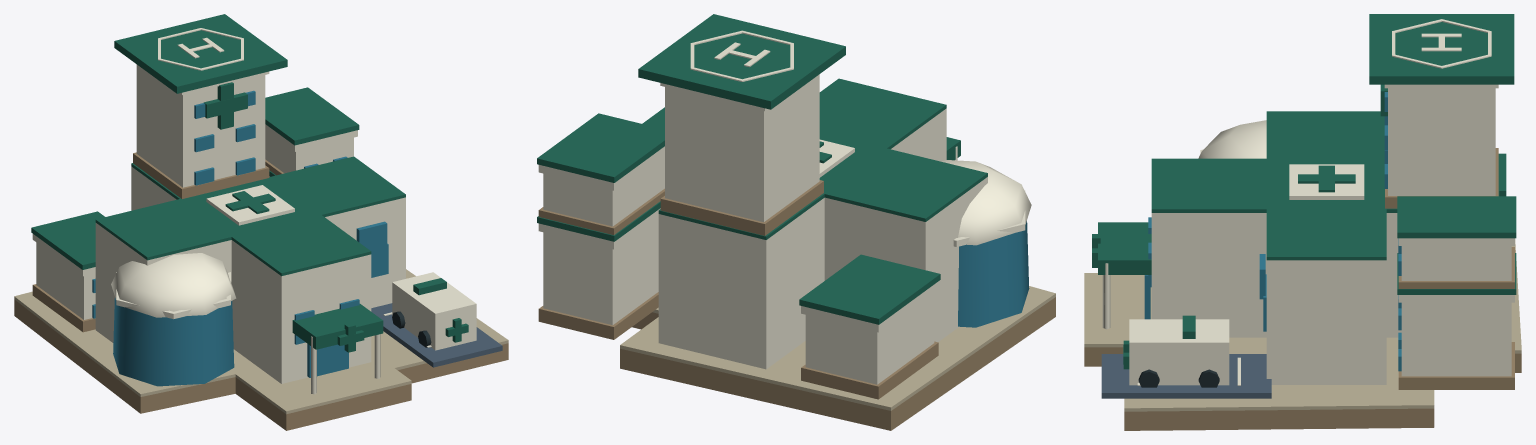
File: medical-center-lv5.glb
The picture shows the model from 3 angles, left to right: view 1: azimuth 30°, elevation 25°; view 2: azimuth 150°, elevation 25°; view 3: azimuth 270°, elevation 25°; orthographic projection. The views are drawn at different scales.
Parts seen in each view (by area): view 1: cross_clinic_white, cross_clinic_jade, medical_tower_white, foundation_paving, foundation_stoneDark, diagnostics_rotunda_glass, helipad_jade, diagnostics_dome_white, ambulance_white, inpatient_upper_floor_roof_jade, inpatient_wing_white, inpatient_upper_floor_white (+14 smaller); view 2: cross_clinic_white, medical_tower_white, cross_clinic_jade, helipad_jade, diagnostics_wing_white, foundation_stoneDark, foundation_paving, inpatient_wing_white, diagnostics_rotunda_glass, inpatient_wing_roof_jade, inpatient_upper_floor_roof_jade, inpatient_upper_floor_white (+8 smaller); view 3: cross_clinic_white, cross_clinic_jade, medical_tower_white, foundation_paving, helipad_jade, diagnostics_wing_white, foundation_stoneDark, ambulance_white, inpatient_upper_floor_roof_jade, inpatient_upper_floor_white, ambulance_lane_slate, entry_canopy_jade (+11 smaller).
Boxes of the visible parts, left/top/right/bottom form: cross_clinic_white: left=95, top=166, right=405, bottom=383; cross_clinic_jade: left=95, top=156, right=405, bottom=276; medical_tower_white: left=136, top=64, right=269, bottom=187; foundation_paving: left=14, top=269, right=508, bottom=414; foundation_stoneDark: left=14, top=299, right=508, bottom=430; diagnostics_rotunda_glass: left=113, top=297, right=234, bottom=386; helipad_jade: left=114, top=14, right=287, bottom=93; diagnostics_dome_white: left=111, top=253, right=236, bottom=319; ambulance_white: left=392, top=272, right=476, bottom=350; inpatient_upper_floor_roof_jade: left=265, top=87, right=359, bottom=145; inpatient_wing_white: left=32, top=234, right=95, bottom=319; inpatient_upper_floor_white: left=265, top=124, right=357, bottom=173; cross_clinic_white: left=658, top=108, right=987, bottom=369; medical_tower_white: left=660, top=74, right=819, bottom=222; cross_clinic_jade: left=642, top=78, right=987, bottom=239; helipad_jade: left=638, top=14, right=845, bottom=109; diagnostics_wing_white: left=538, top=208, right=660, bottom=325; foundation_stoneDark: left=620, top=297, right=1055, bottom=430; foundation_paving: left=620, top=286, right=1055, bottom=410; inpatient_wing_white: left=801, top=281, right=938, bottom=384; diagnostics_rotunda_glass: left=958, top=221, right=1029, bottom=327; inpatient_wing_roof_jade: left=799, top=254, right=940, bottom=324; inpatient_upper_floor_roof_jade: left=537, top=113, right=664, bottom=182; inpatient_upper_floor_white: left=538, top=146, right=664, bottom=226; cross_clinic_white: left=1151, top=213, right=1401, bottom=384; cross_clinic_jade: left=1151, top=111, right=1499, bottom=260; medical_tower_white: left=1384, top=84, right=1498, bottom=195; foundation_paving: left=1084, top=239, right=1521, bottom=411; helipad_jade: left=1369, top=14, right=1514, bottom=84; diagnostics_wing_white: left=1398, top=295, right=1514, bottom=376; foundation_stoneDark: left=1084, top=347, right=1521, bottom=430; ambulance_white: left=1129, top=319, right=1229, bottom=385; inpatient_upper_floor_roof_jade: left=1397, top=196, right=1516, bottom=238; inpatient_upper_floor_white: left=1398, top=238, right=1514, bottom=280; ambulance_lane_slate: left=1101, top=354, right=1271, bottom=398; entry_canopy_jade: left=1098, top=222, right=1151, bottom=274.
Bounding box in the file's own units: 1 × 0.7302 × 0.9887.
